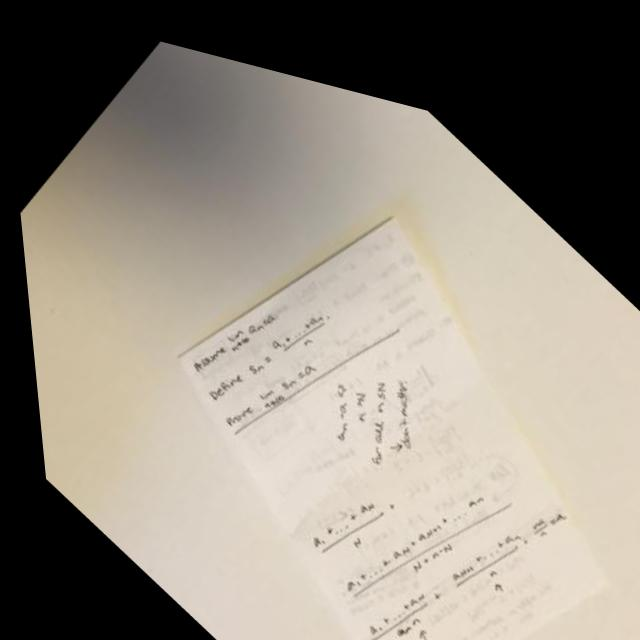paper: (17, 28, 640, 640)
